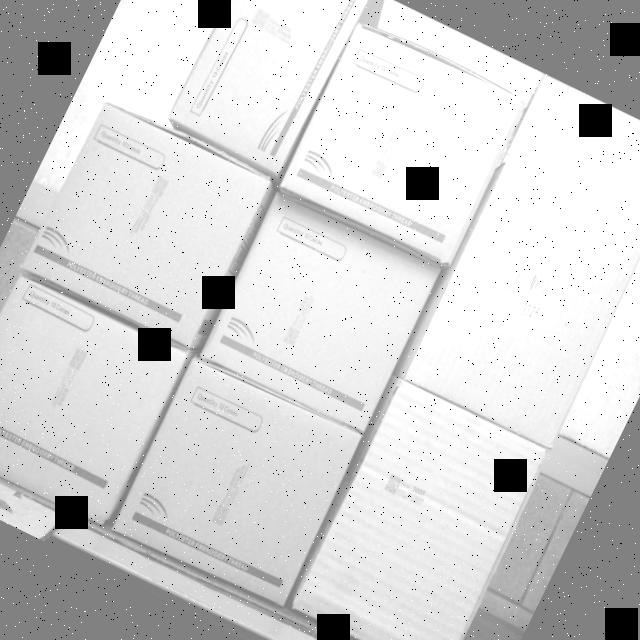box: (285, 379, 555, 640), (402, 160, 640, 445), (113, 356, 364, 608), (195, 191, 444, 441), (278, 21, 529, 269), (23, 103, 274, 350), (0, 269, 191, 527), (167, 0, 371, 175)
